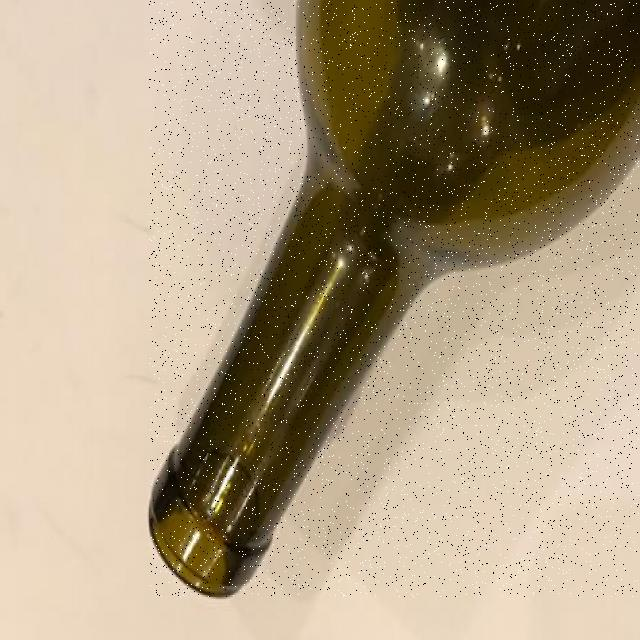glass: (150, 0, 639, 597)
